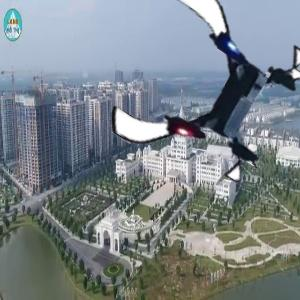drone: (120, 3, 297, 180)
